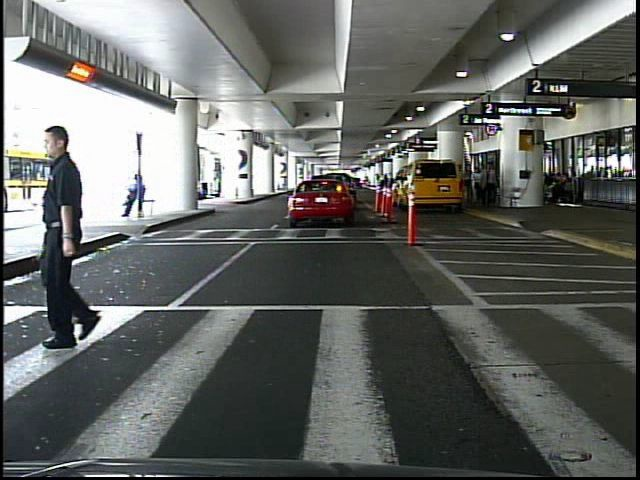person: (46, 125, 136, 349), (481, 163, 498, 209)
